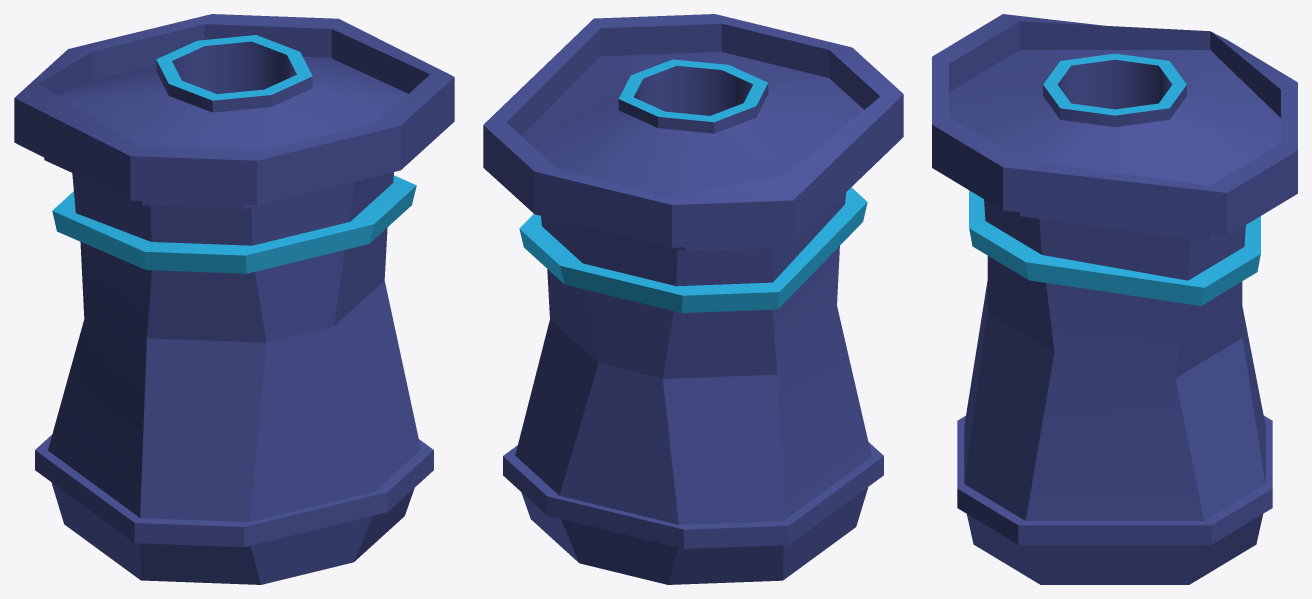
The model's file is SM_Trashcan_01.fbx.
3 renders of one model, left to right at view 1: azimuth 30°, elevation 25°; view 2: azimuth 150°, elevation 25°; view 3: azimuth 270°, elevation 25°, orthographic. The views are drawn at different scales.
Visible parts, largest first — view 1: SM_Trashcan_01; view 2: SM_Trashcan_01; view 3: SM_Trashcan_01.
Boxes of the visible parts, left/top/right/bottom form: SM_Trashcan_01: left=14, top=14, right=454, bottom=584; SM_Trashcan_01: left=483, top=14, right=903, bottom=584; SM_Trashcan_01: left=932, top=14, right=1297, bottom=584.
Size of the model in its own units: 265 by 353 by 267.
